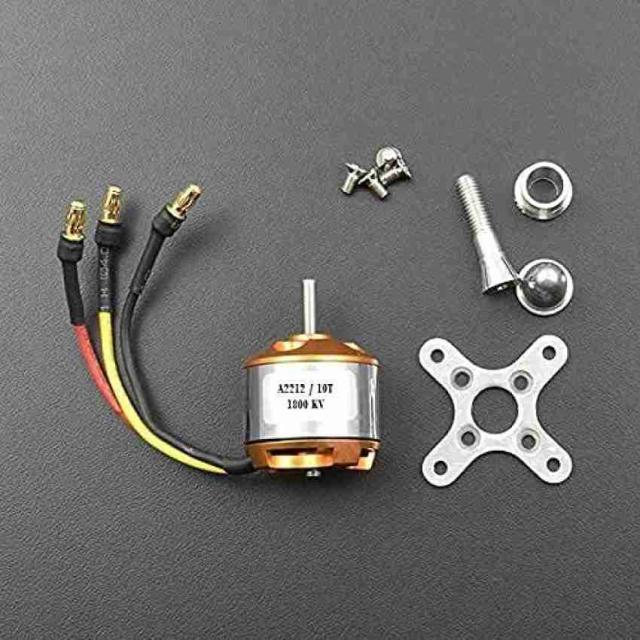motor: (60, 179, 376, 478)
